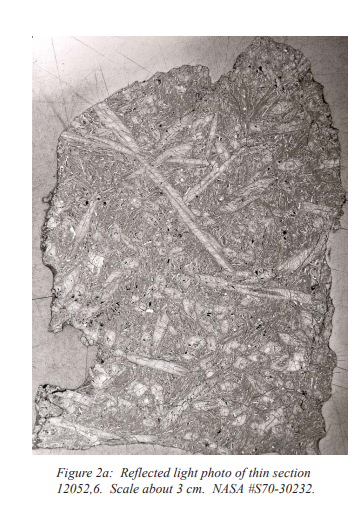Basalt: (45, 69, 322, 440)
